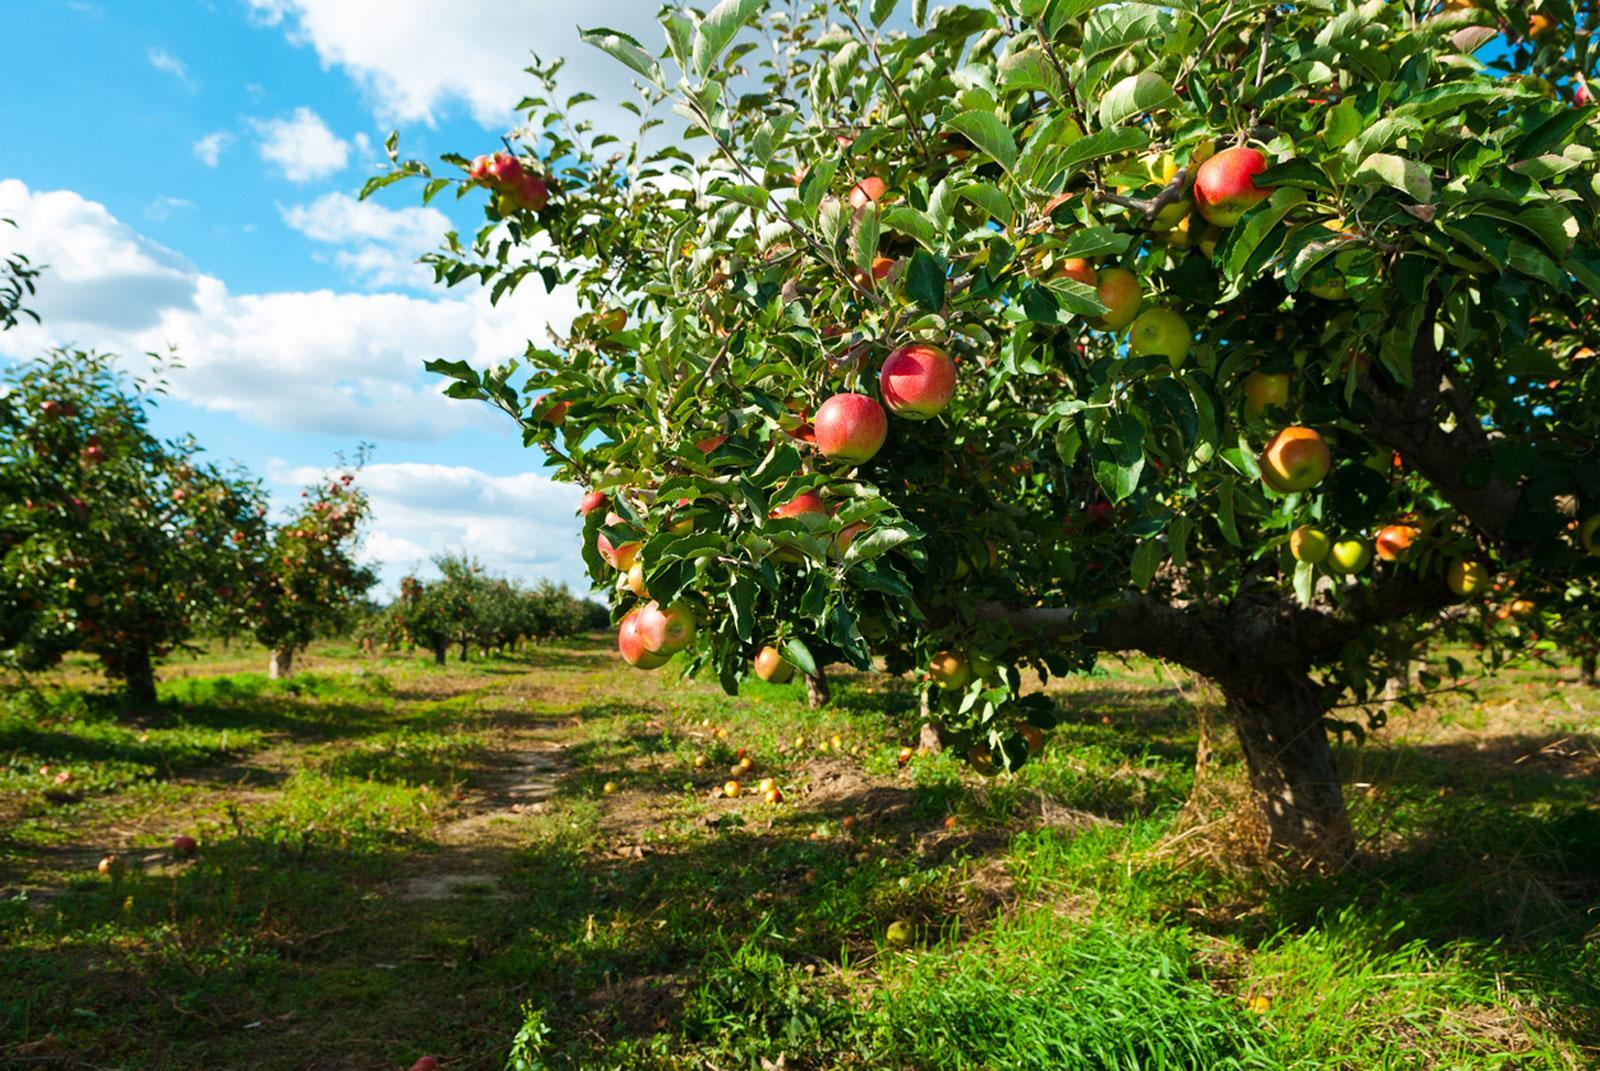apple: (804, 392, 887, 465), (876, 342, 955, 417), (1190, 145, 1269, 218), (617, 600, 694, 668), (1268, 423, 1329, 495), (1329, 534, 1368, 575)
